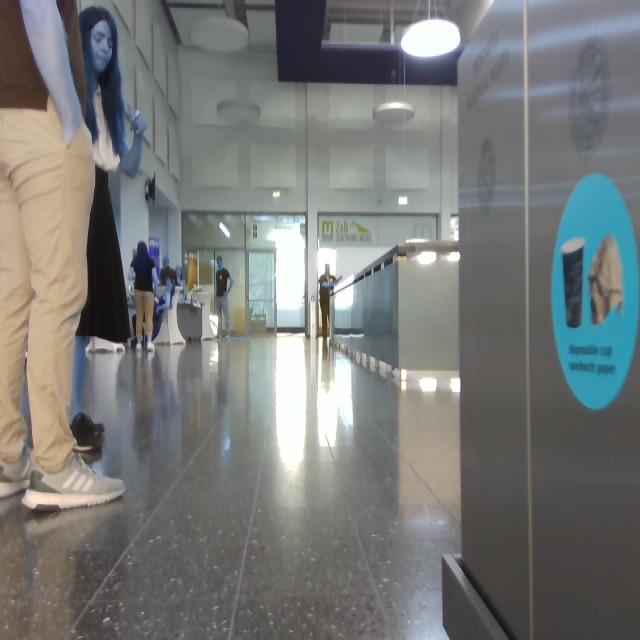door: (241, 214, 306, 334)
light bulb: (401, 18, 460, 58), (191, 16, 249, 53), (563, 238, 585, 328), (373, 100, 415, 126), (374, 102, 415, 125), (218, 101, 261, 122), (125, 105, 147, 137), (419, 378, 436, 392), (398, 70, 405, 97), (447, 252, 459, 262)
person: (1, 1, 125, 509), (72, 6, 147, 452), (131, 242, 158, 349), (216, 257, 233, 336), (319, 265, 336, 340)
staircase: (332, 242, 459, 392)
tiled floor: (1, 337, 460, 640)
trash bin: (443, 1, 640, 640)
